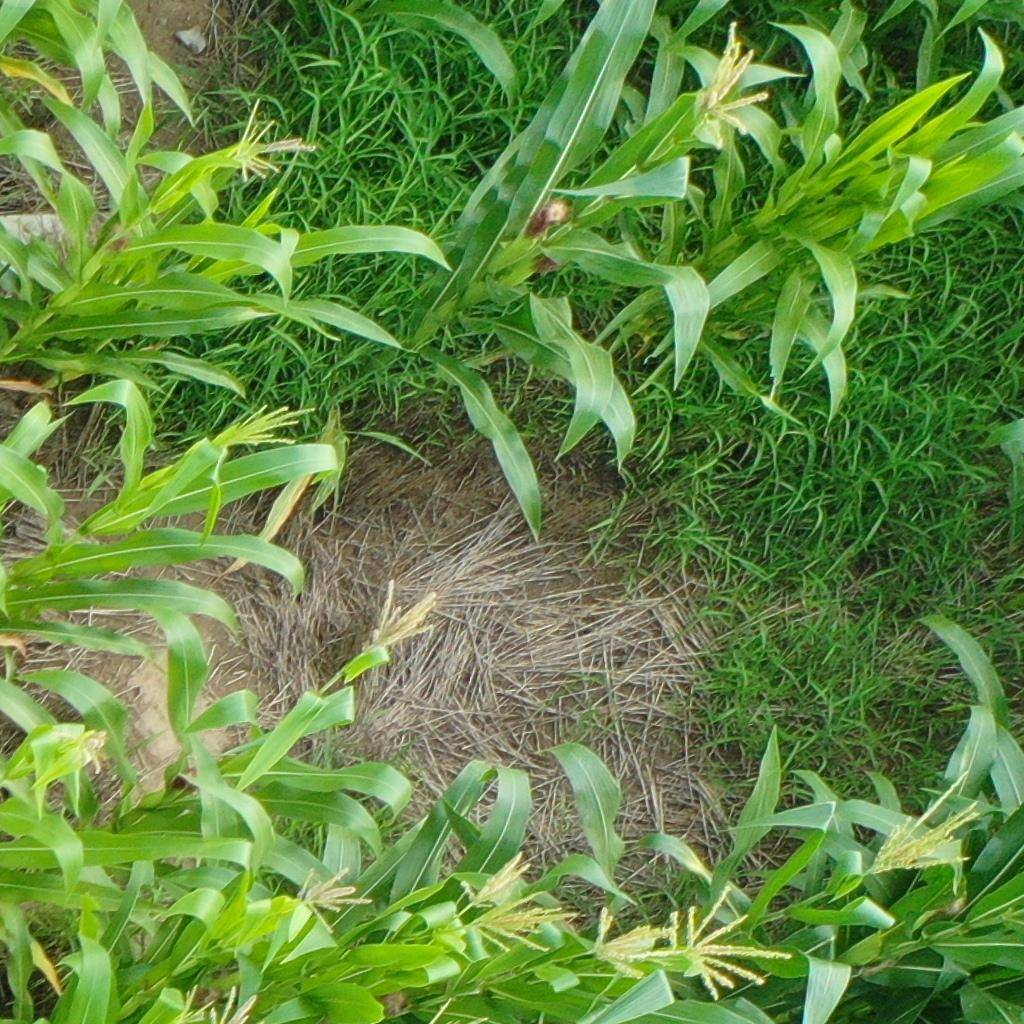Tassel: (680, 884, 795, 1001), (867, 768, 983, 873), (697, 19, 769, 141), (230, 96, 317, 185), (461, 894, 575, 955), (590, 905, 674, 983), (363, 576, 441, 657), (291, 863, 374, 935), (212, 400, 318, 455), (456, 851, 532, 908), (57, 726, 110, 774), (209, 988, 262, 1024), (175, 984, 212, 1023)
